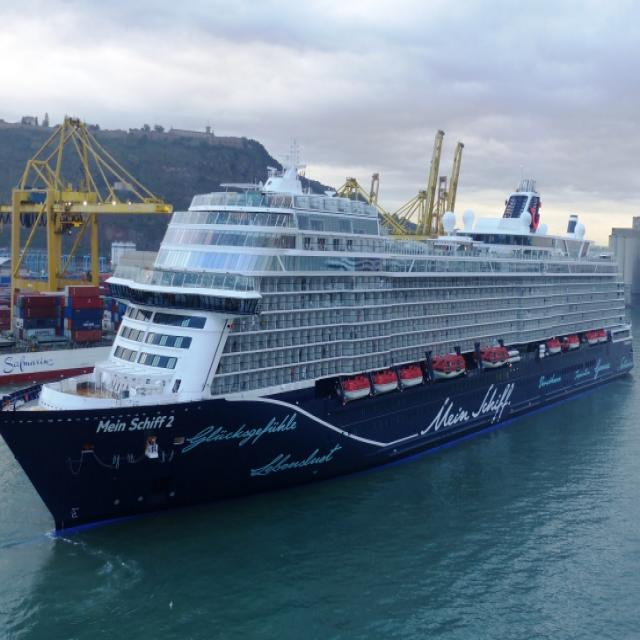cruises: (1, 136, 640, 540)
